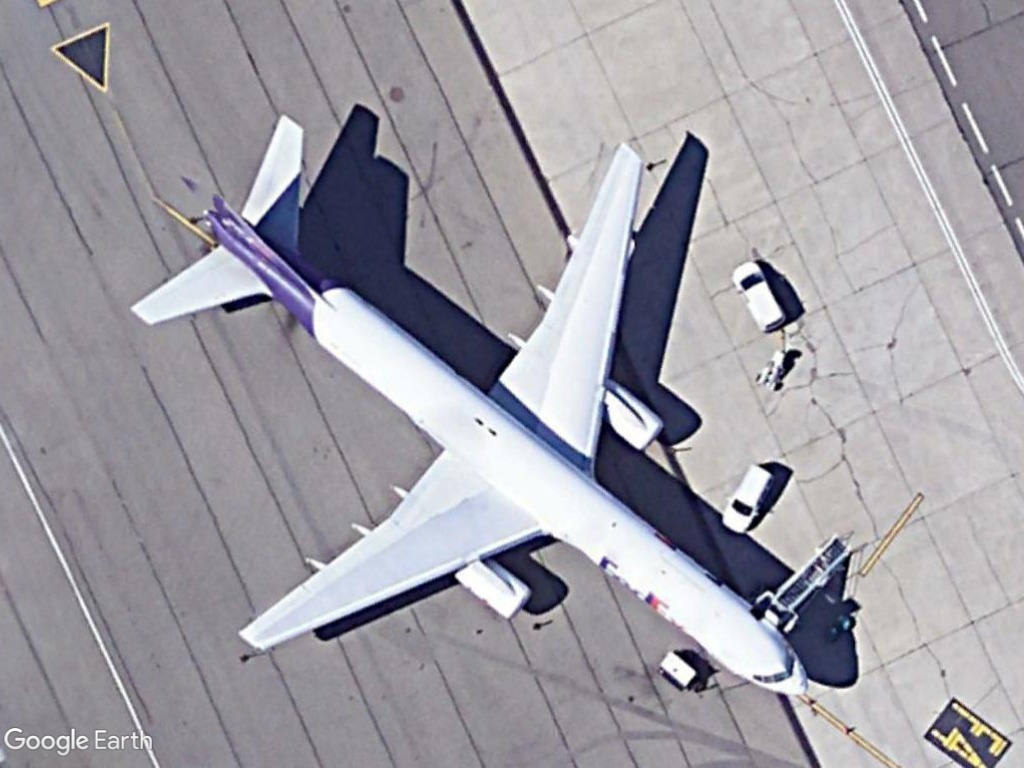airliner: (124, 109, 814, 701)
stairtruck: (755, 532, 856, 629)
van: (729, 256, 790, 335), (720, 462, 776, 536)
